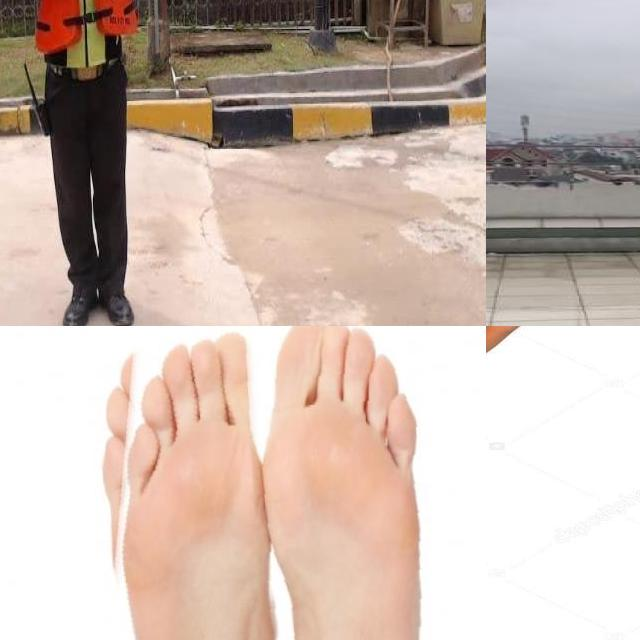Barefoots: (97, 327, 300, 640), (266, 326, 434, 640)
boots: (100, 282, 139, 326), (62, 283, 99, 326)
person: (0, 0, 204, 326), (486, 326, 534, 640)
vest: (32, 0, 138, 74)
